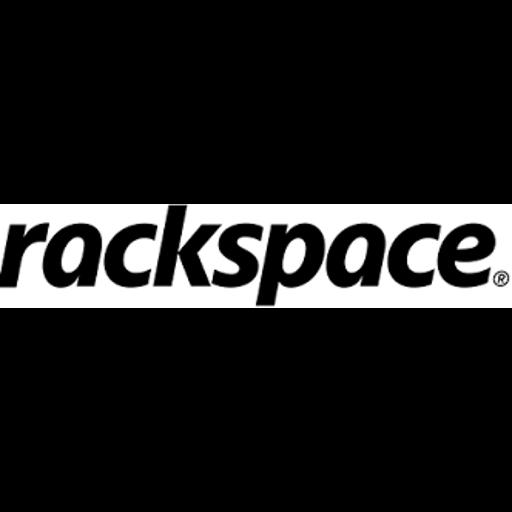Rackspace: (0, 204, 512, 308)
